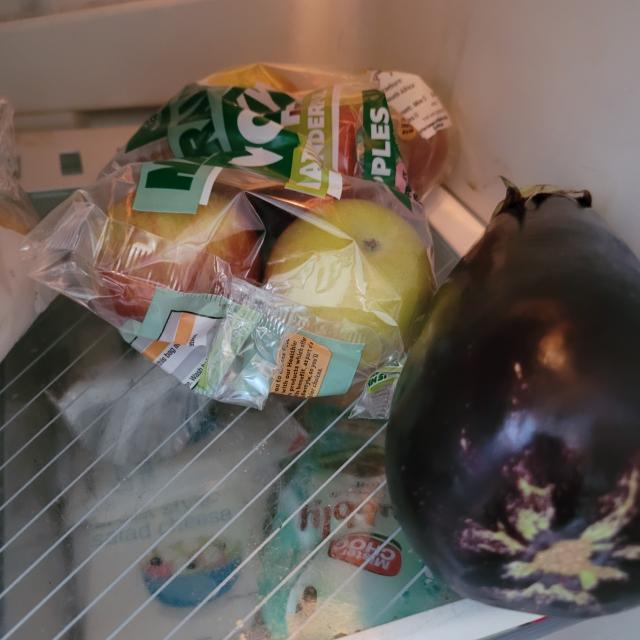Manzana: (91, 187, 258, 338), (274, 201, 428, 346)
Queso: (77, 449, 270, 640)
